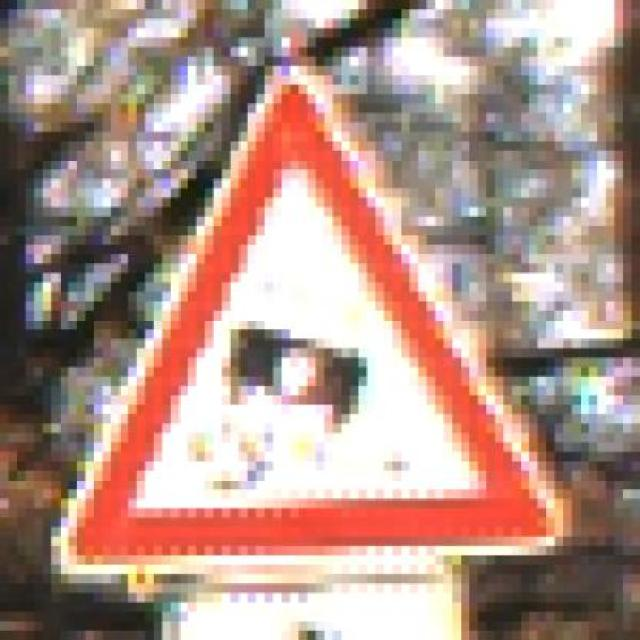Slippery Road Ahead: (34, 66, 572, 583)
